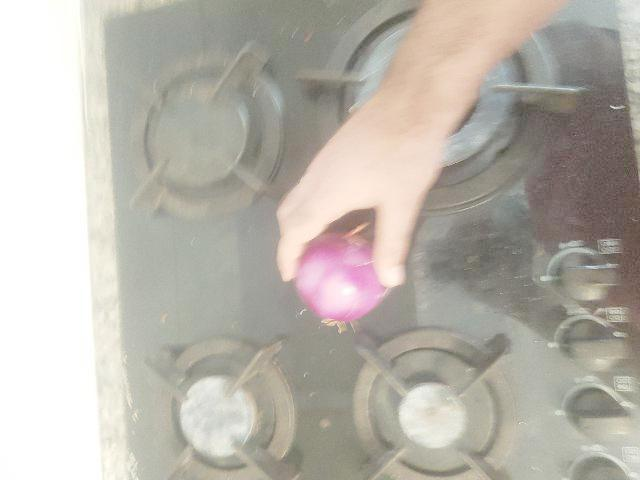onion: (164, 295, 253, 386)
